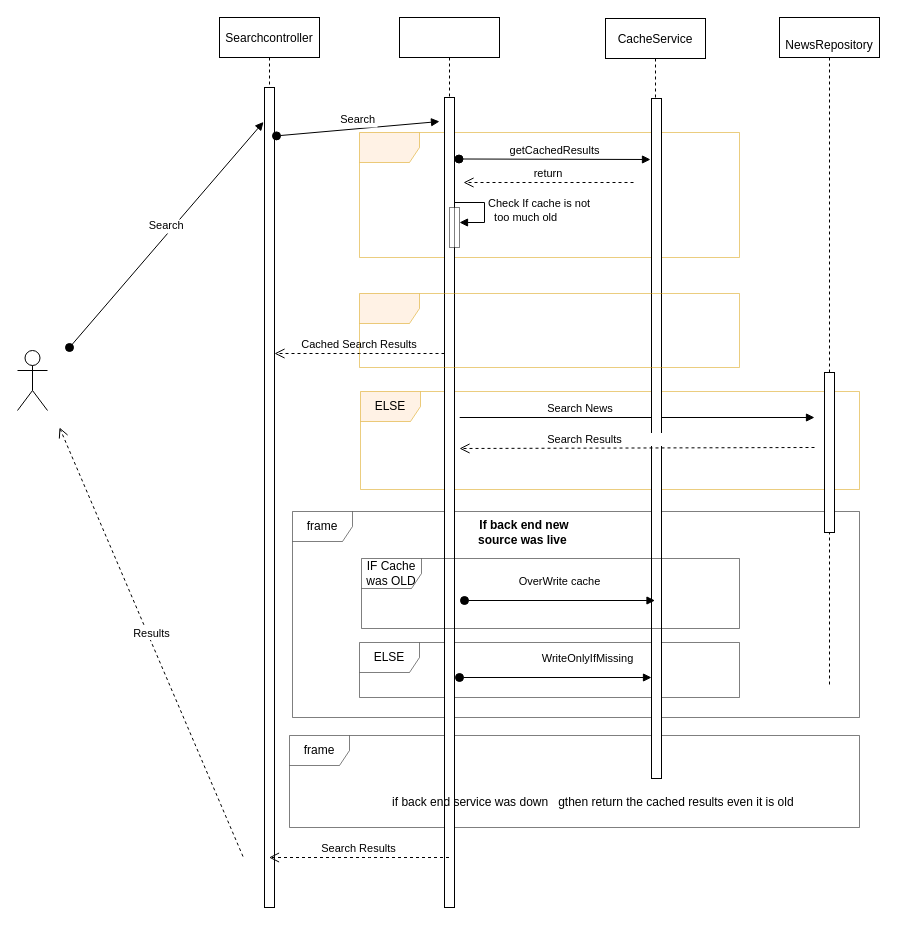
Some shapes in this 897 by 925 pixel diagram are drawn without their labels. Each missing label, with the box of its shape:
Actor: (16, 350, 48, 410)
IF cache is pressnt and not old: (358, 292, 740, 368)
IF Offline Mode: (358, 132, 740, 258)
SearchService: (398, 16, 500, 908)
